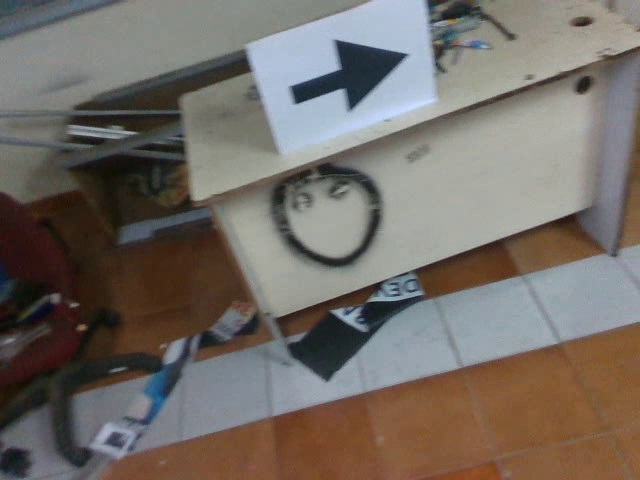Right: (279, 36, 411, 116)
